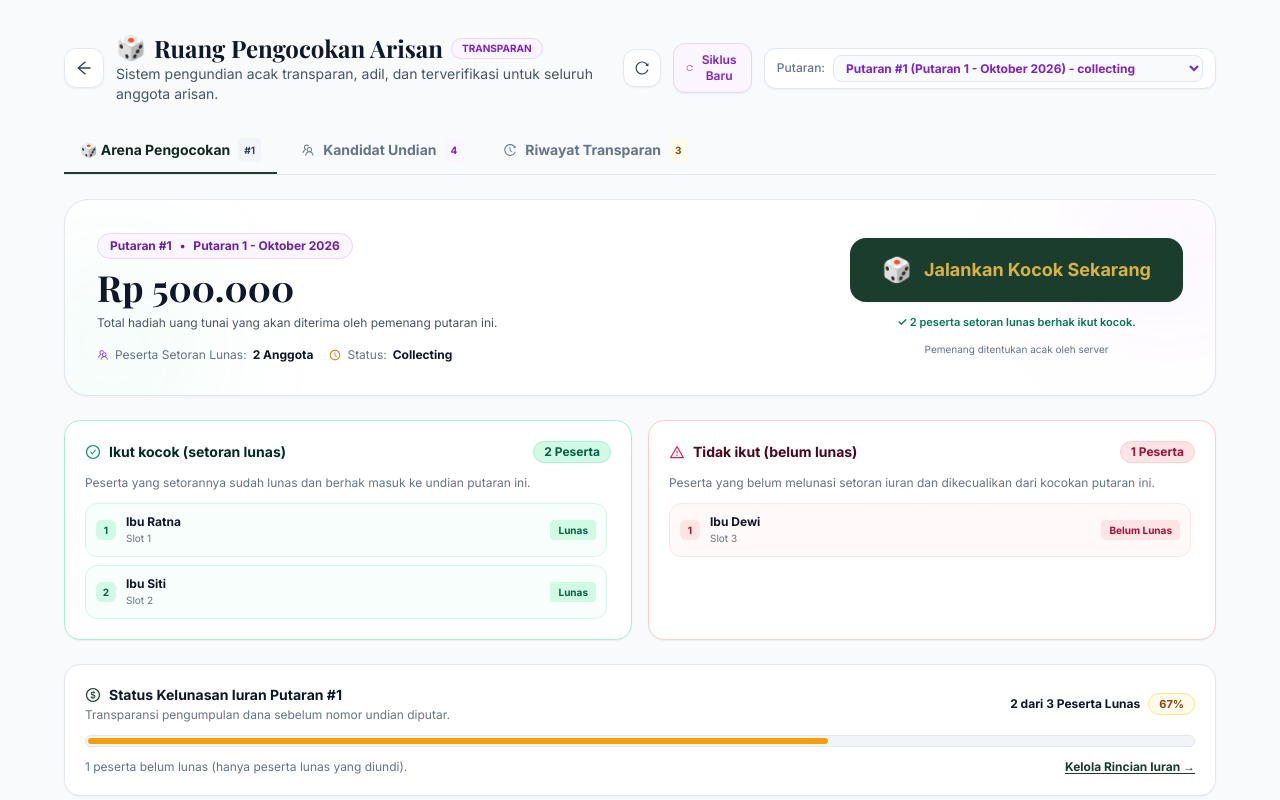
Test case: ArisanDraw Component (ARISAN-1.4 & PANITIA-ARISAN-1F F.1) › 2. alur kocok: klik Kocok → konfirmasi → mock drawArisanWinner → kartu menampilkan total_prize dan drawn_at RPC
Click the button "🎲 Jalankan Kocok Sekarang".
click(1017, 270)  # box [850,238,1183,302]
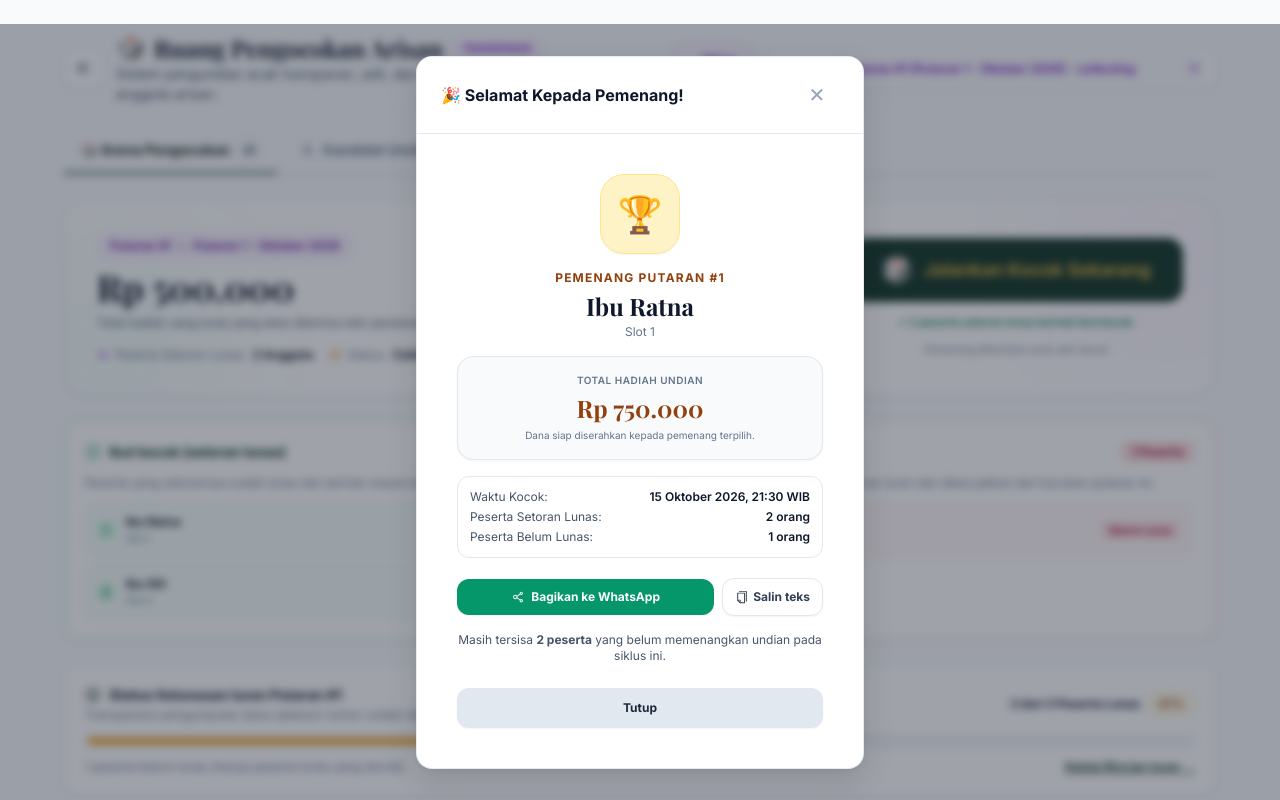
Expected: the text "Rp 750.000" is shown, [576,392,703,424]
